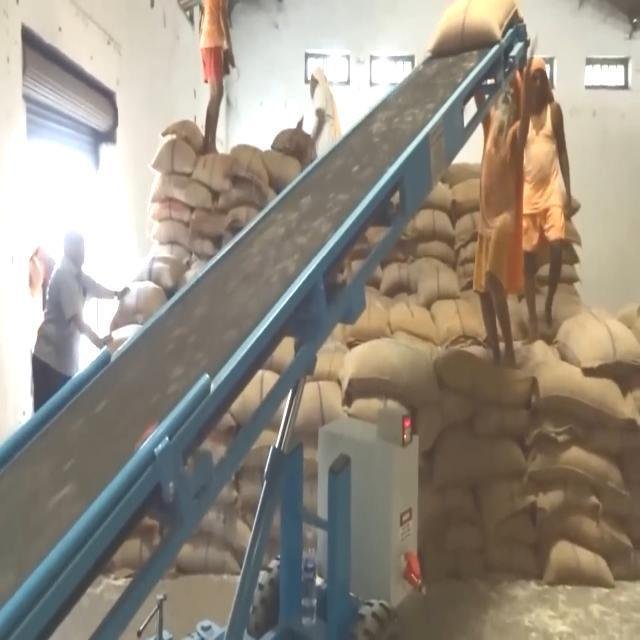gunny_bag: (342, 336, 443, 407), (529, 364, 634, 431), (422, 0, 532, 60), (434, 348, 537, 409), (551, 306, 640, 376), (433, 430, 531, 492), (534, 500, 629, 562), (524, 442, 624, 498), (478, 469, 544, 532), (544, 538, 614, 588), (473, 394, 539, 438), (428, 297, 486, 347), (390, 290, 438, 346), (152, 170, 218, 209), (230, 140, 272, 194), (132, 254, 193, 291), (149, 138, 201, 179), (448, 513, 492, 561), (194, 154, 238, 197), (416, 266, 461, 308), (149, 223, 203, 256), (166, 114, 202, 158), (272, 130, 319, 162), (412, 210, 456, 242), (410, 237, 458, 263)
